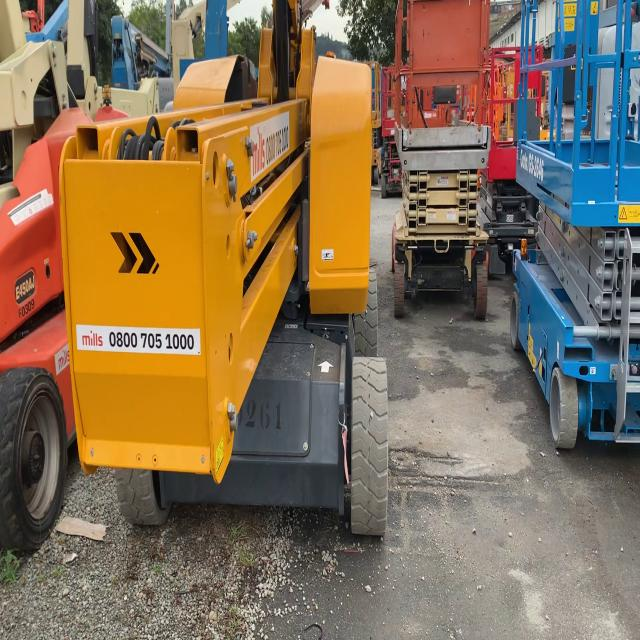Adesivo Longo: (75, 323, 201, 356)
